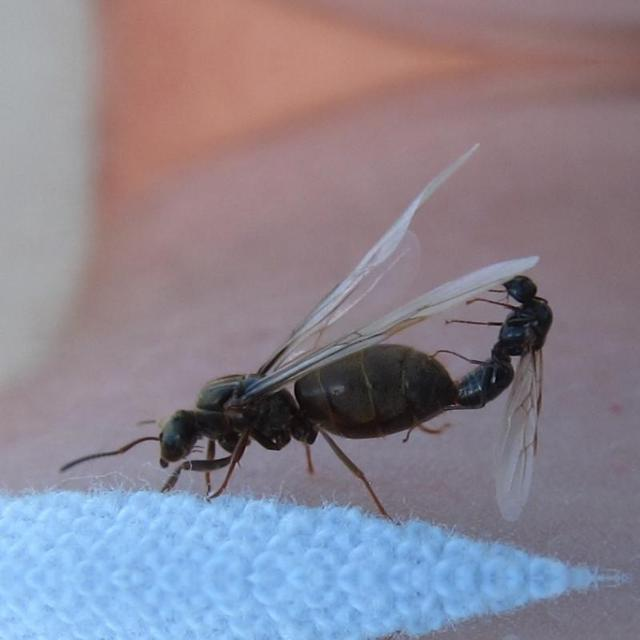Lasius: (148, 331, 452, 513), (450, 272, 568, 512)
